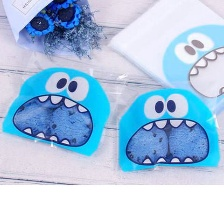snack: (0, 42, 134, 168), (107, 66, 224, 178)
